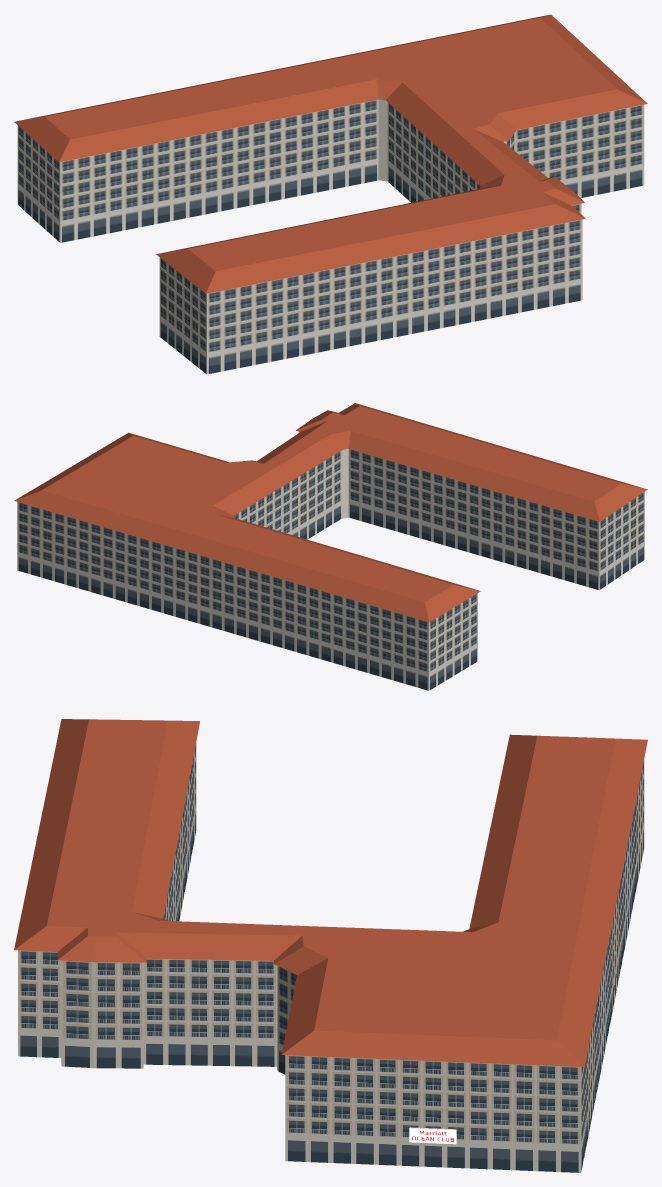
The model's file is m_marriottoceanclub.glb.
3 views of the same model, one above another, from view 1: azimuth 30°, elevation 25°; view 2: azimuth 150°, elevation 25°; view 3: azimuth 270°, elevation 25° (orthographic). The views are drawn at different scales.
Visible parts, largest first — view 1: m_marriottoceanclub_lod0; view 2: m_marriottoceanclub_lod0; view 3: m_marriottoceanclub_lod0.
Boxes of the visible parts, box(x1,y1,x2,y2) form: m_marriottoceanclub_lod0: box(14, 14, 647, 374); m_marriottoceanclub_lod0: box(14, 403, 647, 690); m_marriottoceanclub_lod0: box(14, 719, 647, 1172).
Size of what is drawn, in the model's own units: 139 by 22.39 by 107.
6 materials, 3 textured.
